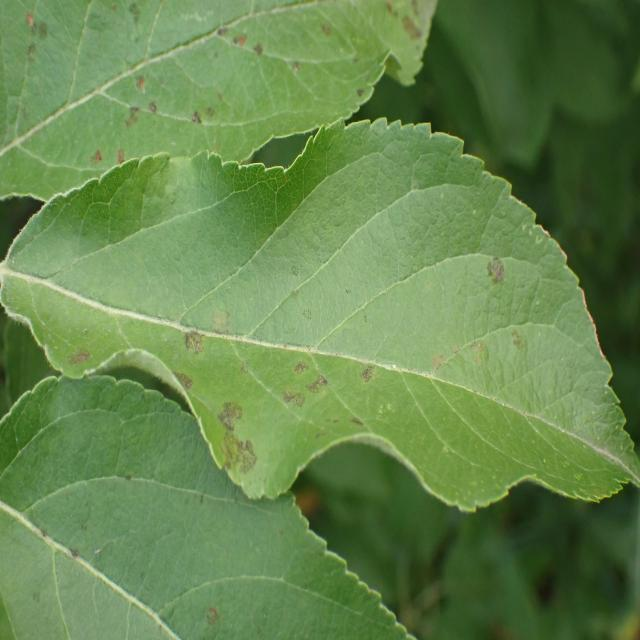scab: (54, 180, 556, 490), (0, 0, 440, 166), (8, 498, 326, 640)
